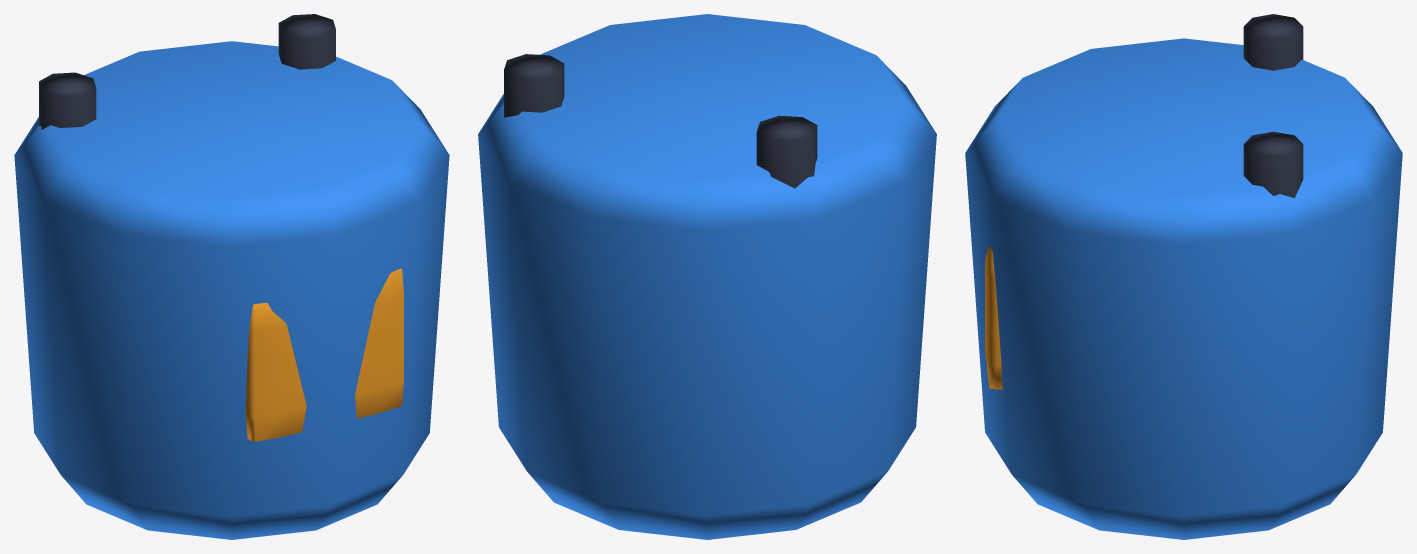
File: torso_furnace.obj
3 views of the same model, side by side, from view 1: azimuth 30°, elevation 25°; view 2: azimuth 150°, elevation 25°; view 3: azimuth 270°, elevation 25° (orthographic). The views are drawn at different scales.
Size of the model in its own units: 0.88 by 0.85 by 0.88.
